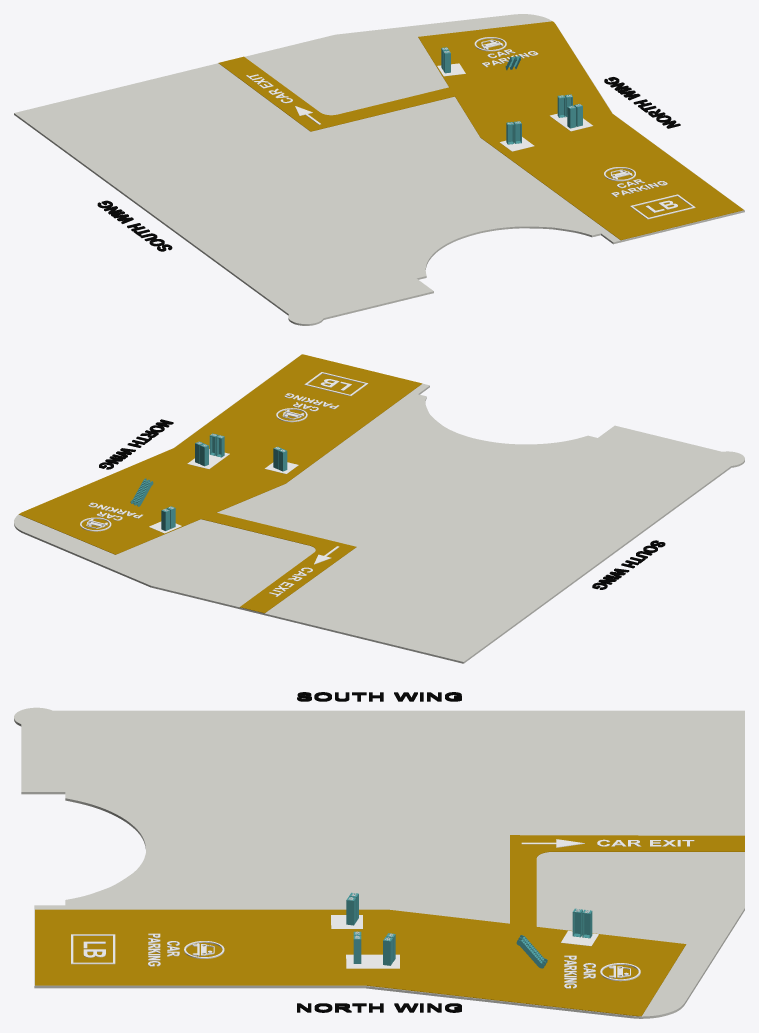
File: floor-lower-basement.gltf
3 renders of one model, top to bottom at view 1: azimuth 30°, elevation 25°; view 2: azimuth 150°, elevation 25°; view 3: azimuth 270°, elevation 25°, orthographic. The views are drawn at different scales.
Parts seen in each view (by area): view 1: Shape001, Line927, Line928, Text088, Text073; view 2: Shape001, Line927, Line928, Text088, Text073; view 3: Shape001, Line927, Line928, Text088, Text073, Line970, Text168, Text169.
Boxes of the visible parts, bbox=[...] form: Shape001: bbox=[14, 14, 744, 325]; Line927: bbox=[418, 21, 743, 240]; Line928: bbox=[218, 56, 454, 131]; Text088: bbox=[604, 77, 680, 128]; Text073: bbox=[97, 200, 172, 251]; Shape001: bbox=[14, 354, 744, 663]; Line927: bbox=[18, 354, 422, 554]; Line928: bbox=[201, 512, 356, 613]; Text088: bbox=[99, 419, 173, 469]; Text073: bbox=[592, 540, 665, 589]; Shape001: bbox=[14, 707, 744, 1018]; Line927: bbox=[35, 909, 686, 1016]; Line928: bbox=[510, 835, 744, 926]; Text088: bbox=[297, 1003, 461, 1012]; Text073: bbox=[297, 692, 461, 701]; Line970: bbox=[346, 954, 399, 968]; Text168: bbox=[564, 955, 595, 988]; Text169: bbox=[148, 933, 179, 966].
Size of the model in its own units: 119 by 4.95 by 113.
